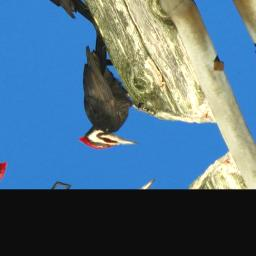Woodpecker: (32, 25, 162, 162)
